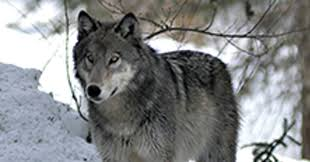wolf: (54, 28, 235, 162)
